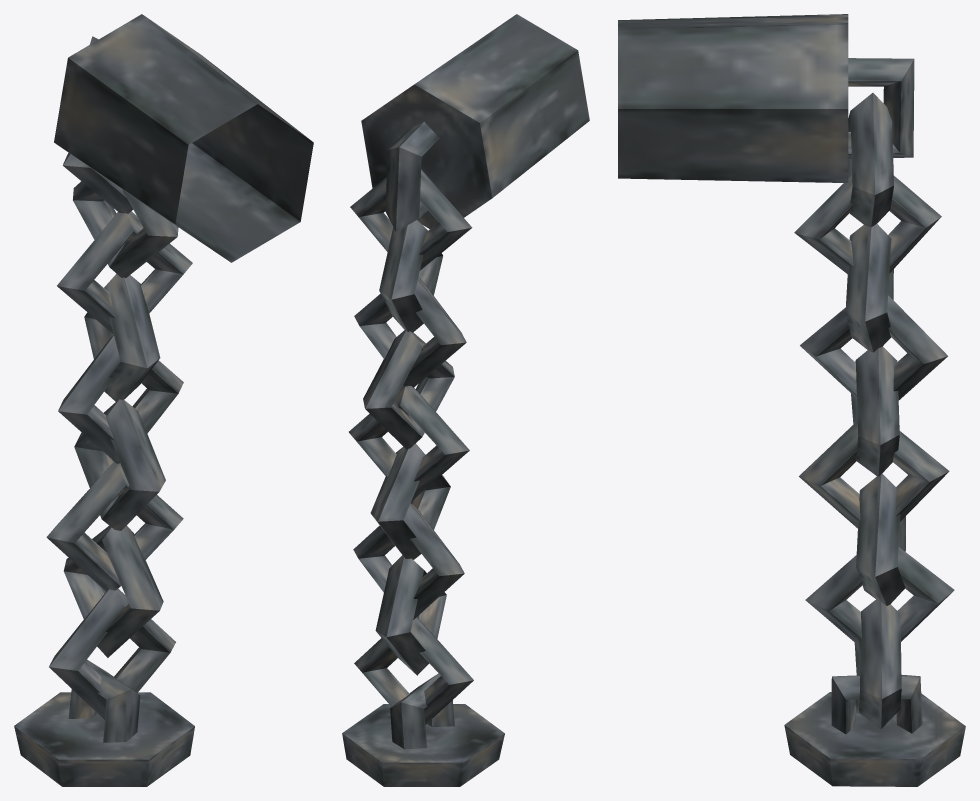
The model's file is chain_001.obj.
3 renders of one model, left to right at view 1: azimuth 30°, elevation 25°; view 2: azimuth 150°, elevation 25°; view 3: azimuth 270°, elevation 25°, orthographic. The views are drawn at different scales.
Parts seen in each view (by area): view 1: chain_001; view 2: chain_001; view 3: chain_001.
Boxes of the visible parts, bbox=[...] form: chain_001: bbox=[14, 14, 313, 786]; chain_001: bbox=[342, 14, 589, 786]; chain_001: bbox=[618, 14, 965, 786].
Bounding box in the file's own units: 1.31 × 6.1 × 2.58.
